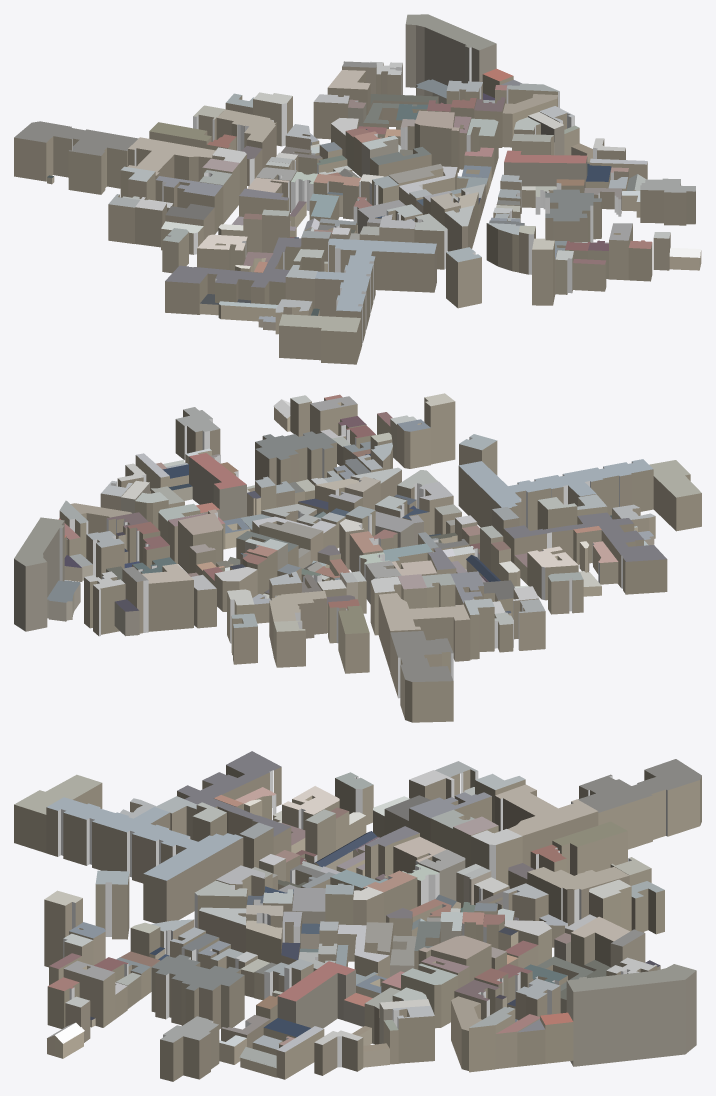
The picture shows the model from 3 angles, top to bottom: view 1: azimuth 30°, elevation 25°; view 2: azimuth 150°, elevation 25°; view 3: azimuth 270°, elevation 25°; orthographic projection. The views are drawn at different scales.
Visible parts, largest first — view 1: tuile; view 2: tuile; view 3: tuile.
Part boxes in pixels (<box>): tuile: <box>14,14,701,364</box>; tuile: <box>14,393,701,722</box>; tuile: <box>14,751,701,1081</box>.
Bounding box in the file's own units: 288 × 36.87 × 289.
